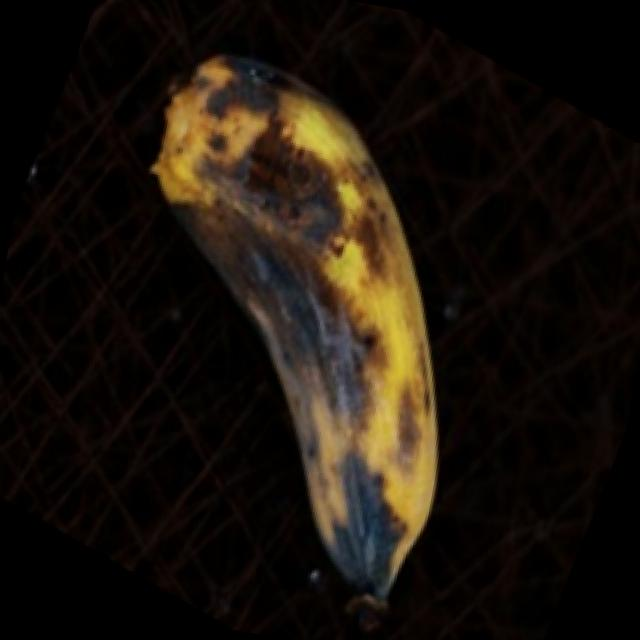Rotten_Banana: (83, 0, 538, 640)
